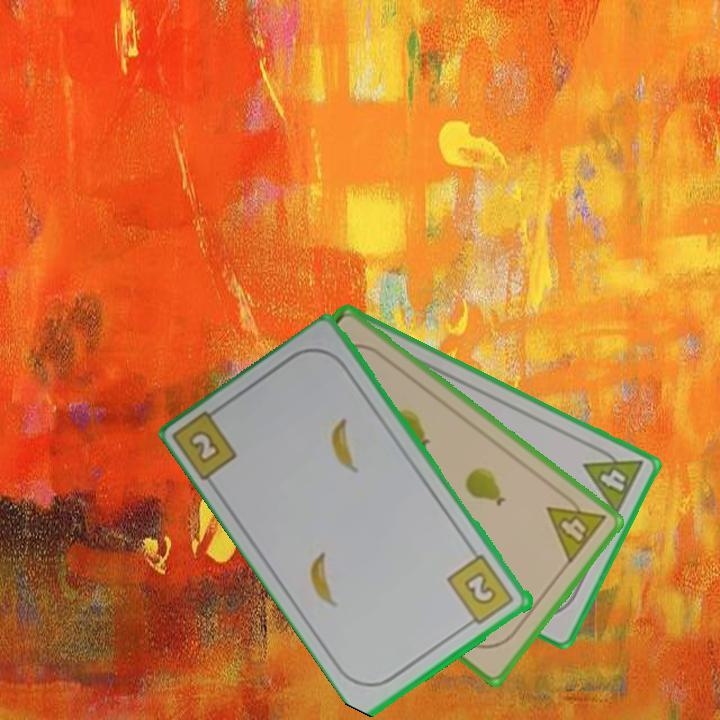2b: (444, 551, 517, 630), (185, 426, 224, 467)
4p: (543, 487, 610, 567), (580, 441, 647, 518)
